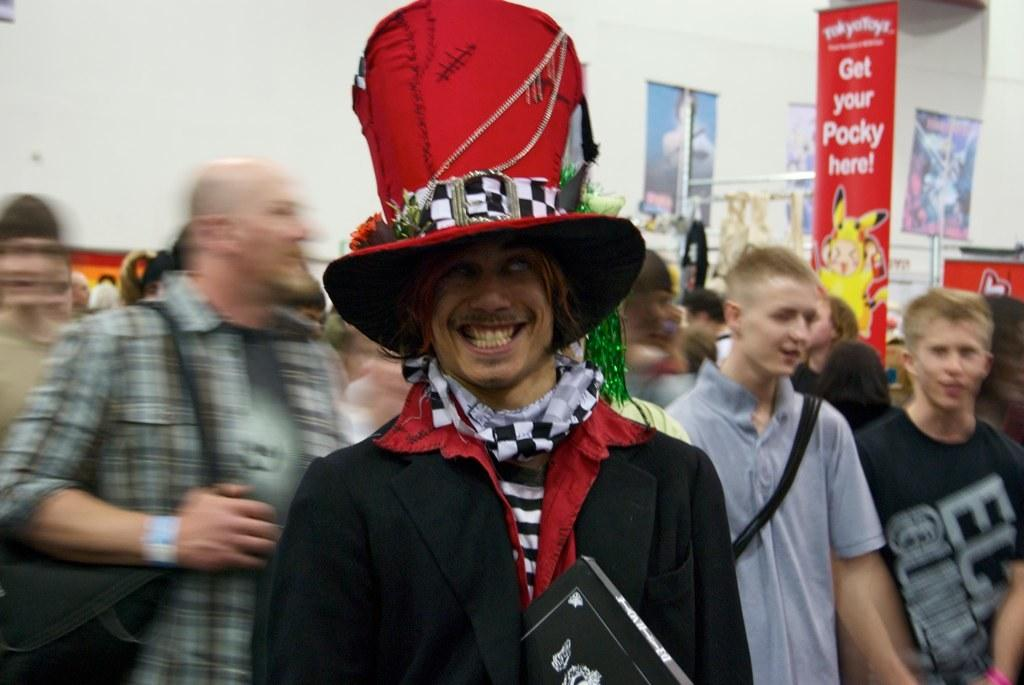Hat: (321, 0, 647, 358)
